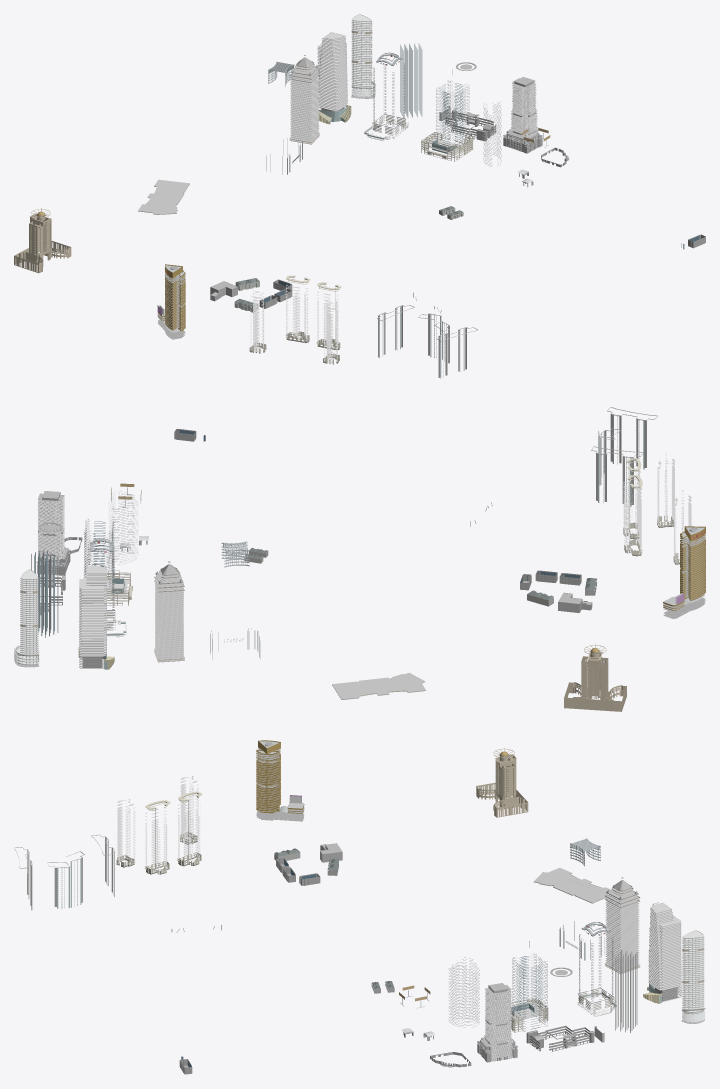
Rendered from lujiazui-12.glb.
3 views of the same model, one above another, from view 1: azimuth 30°, elevation 25°; view 2: azimuth 150°, elevation 25°; view 3: azimuth 270°, elevation 25° (orthographic). The views are drawn at different scales.
Visible parts, largest first — view 1: source_2794_时代金融广场_楼板_part0, source_2742_Mat3d66-1303573-217-7508_part0, source_2729_汤臣-阳台板_part0, source_2737_周围建筑-黄色石才_part0, source_2796_时代金融广场_梁_part0, source_2783_周围建筑-金属1_part0, source_2791_银成中路十号_楼板_part0, source_2752_新上海国际_楼板_part0, source_2844_Mat3d66-1303573-229-4982_part0, source_2790_银成中路十号_梁_part0, source_2841_Mat3d66-1303573-250-848_part0, source_2741_上海黄金置地大厦-梁_part0 (+10 smaller); view 2: source_2794_时代金融广场_楼板_part0, source_2742_Mat3d66-1303573-217-7508_part0, source_2737_周围建筑-黄色石才_part0, source_2796_时代金融广场_梁_part0, source_2844_Mat3d66-1303573-229-4982_part0, source_2729_汤臣-阳台板_part0, source_2752_新上海国际_楼板_part0, source_2850_Mat3d66-1303573-2153-4388_part0, source_2841_Mat3d66-1303573-250-848_part0, source_2791_银成中路十号_楼板_part0, source_2790_银成中路十号_梁_part0, source_2741_上海黄金置地大厦-梁_part0 (+11 smaller); view 3: source_2729_汤臣-阳台板_part0, source_2794_时代金融广场_楼板_part0, source_2742_Mat3d66-1303573-217-7508_part0, source_2796_时代金融广场_梁_part0, source_2737_周围建筑-黄色石才_part0, source_2844_Mat3d66-1303573-229-4982_part0, source_2752_新上海国际_楼板_part0, source_2791_银成中路十号_楼板_part0, source_2756_新上海国际_线脚_part0, source_2790_银成中路十号_梁_part0, source_2850_Mat3d66-1303573-2153-4388_part0, source_2782__part0 (+12 smaller).
Part boxes in pixels (x1=…): source_2794_时代金融广场_楼板_part0: x1=318, y1=32, x2=347, y2=110; source_2742_Mat3d66-1303573-217-7508_part0: x1=290, y1=64, x2=318, y2=143; source_2729_汤臣-阳台板_part0: x1=250, y1=285, x2=338, y2=362; source_2737_周围建筑-黄色石才_part0: x1=14, y1=208, x2=71, y2=273; source_2796_时代金融广场_梁_part0: x1=317, y1=32, x2=347, y2=111; source_2783_周围建筑-金属1_part0: x1=400, y1=43, x2=422, y2=118; source_2791_银成中路十号_楼板_part0: x1=352, y1=14, x2=374, y2=95; source_2752_新上海国际_楼板_part0: x1=507, y1=78, x2=538, y2=151; source_2844_Mat3d66-1303573-229-4982_part0: x1=157, y1=264, x2=185, y2=331; source_2790_银成中路十号_梁_part0: x1=351, y1=14, x2=374, y2=96; source_2841_Mat3d66-1303573-250-848_part0: x1=138, y1=179, x2=189, y2=214; source_2741_上海黄金置地大厦-梁_part0: x1=290, y1=67, x2=319, y2=143; source_2794_时代金融广场_楼板_part0: x1=79, y1=565, x2=106, y2=668; source_2742_Mat3d66-1303573-217-7508_part0: x1=155, y1=571, x2=183, y2=661; source_2737_周围建筑-黄色石才_part0: x1=564, y1=644, x2=626, y2=711; source_2796_时代金融广场_梁_part0: x1=79, y1=564, x2=106, y2=668; source_2844_Mat3d66-1303573-229-4982_part0: x1=663, y1=526, x2=705, y2=610; source_2729_汤臣-阳台板_part0: x1=623, y1=455, x2=691, y2=562; source_2752_新上海国际_楼板_part0: x1=38, y1=493, x2=67, y2=574; source_2850_Mat3d66-1303573-2153-4388_part0: x1=663, y1=535, x2=705, y2=618; source_2841_Mat3d66-1303573-250-848_part0: x1=332, y1=672, x2=425, y2=699; source_2791_银成中路十号_楼板_part0: x1=16, y1=569, x2=37, y2=664; source_2790_银成中路十号_梁_part0: x1=16, y1=569, x2=38, y2=664; source_2741_上海黄金置地大厦-梁_part0: x1=155, y1=574, x2=183, y2=661; source_2729_汤臣-阳台板_part0: x1=117, y1=776, x2=199, y2=871; source_2794_时代金融广场_楼板_part0: x1=649, y1=903, x2=681, y2=1002; source_2742_Mat3d66-1303573-217-7508_part0: x1=606, y1=888, x2=638, y2=972; source_2796_时代金融广场_梁_part0: x1=648, y1=902, x2=681, y2=1001; source_2737_周围建筑-黄色石才_part0: x1=476, y1=748, x2=528, y2=817; source_2844_Mat3d66-1303573-229-4982_part0: x1=256, y1=740, x2=304, y2=813; source_2752_新上海国际_楼板_part0: x1=480, y1=985, x2=514, y2=1061; source_2791_银成中路十号_楼板_part0: x1=683, y1=931, x2=703, y2=1015; source_2756_新上海国际_线脚_part0: x1=484, y1=985, x2=512, y2=1060; source_2790_银成中路十号_梁_part0: x1=682, y1=930, x2=704, y2=1018; source_2850_Mat3d66-1303573-2153-4388_part0: x1=256, y1=748, x2=304, y2=821; source_2782__part0: x1=615, y1=950, x2=637, y2=1032.
Bounding box in the file's own units: 1169 × 202 × 1203.
